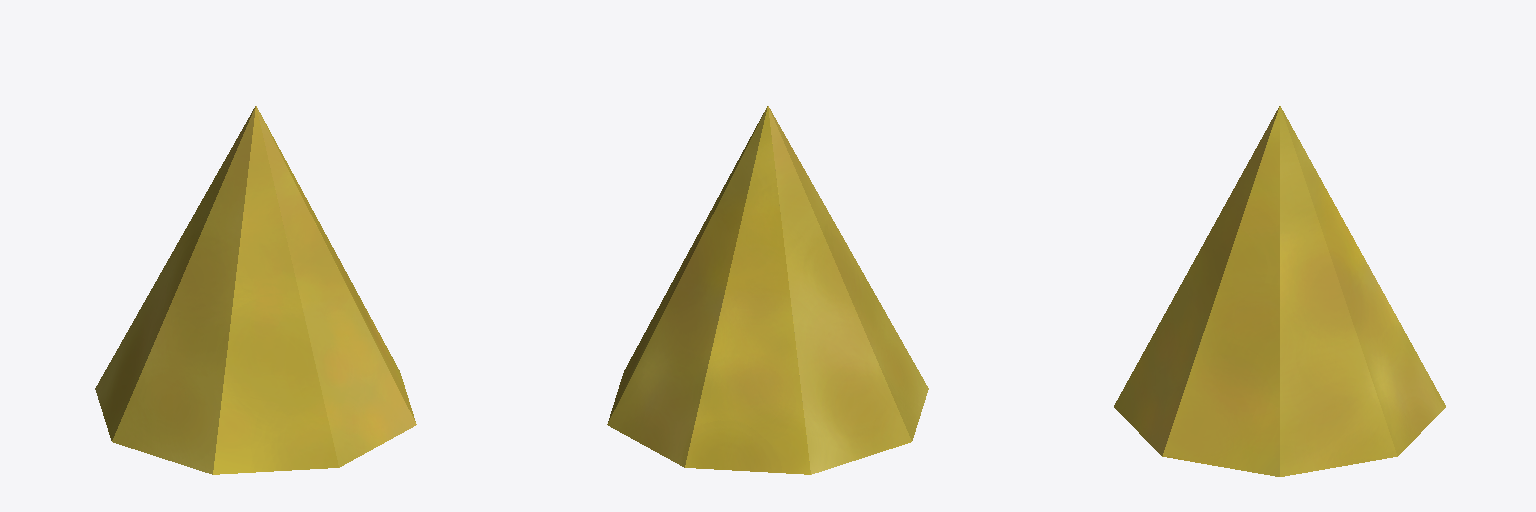
3 views of the same model, side by side, from view 1: azimuth 30°, elevation 25°; view 2: azimuth 150°, elevation 25°; view 3: azimuth 270°, elevation 25° (orthographic).
Visible parts, largest first — view 1: Cone.003; view 2: Cone.003; view 3: Cone.003.
Part boxes in pixels (x1,y1,x2,y2): Cone.003: (95,106,416,474); Cone.003: (607,106,928,474); Cone.003: (1114,106,1445,476).
Size of the model in its own units: 1.93 by 1.93 by 1.93.
1 materials, 1 textured.